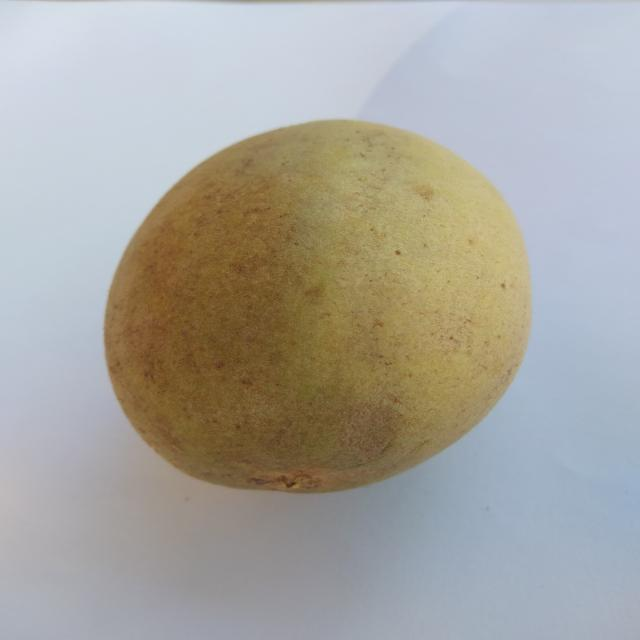mentah: (100, 116, 534, 499)
